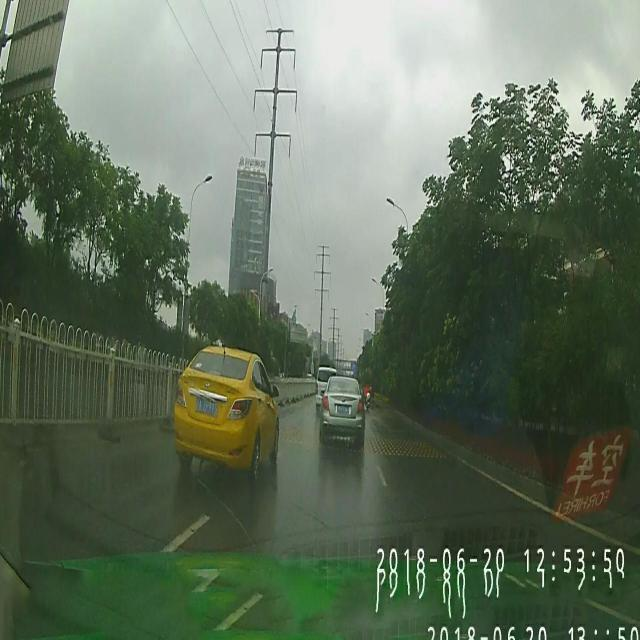car: (172, 346, 280, 479), (320, 375, 364, 447), (316, 365, 338, 411)
